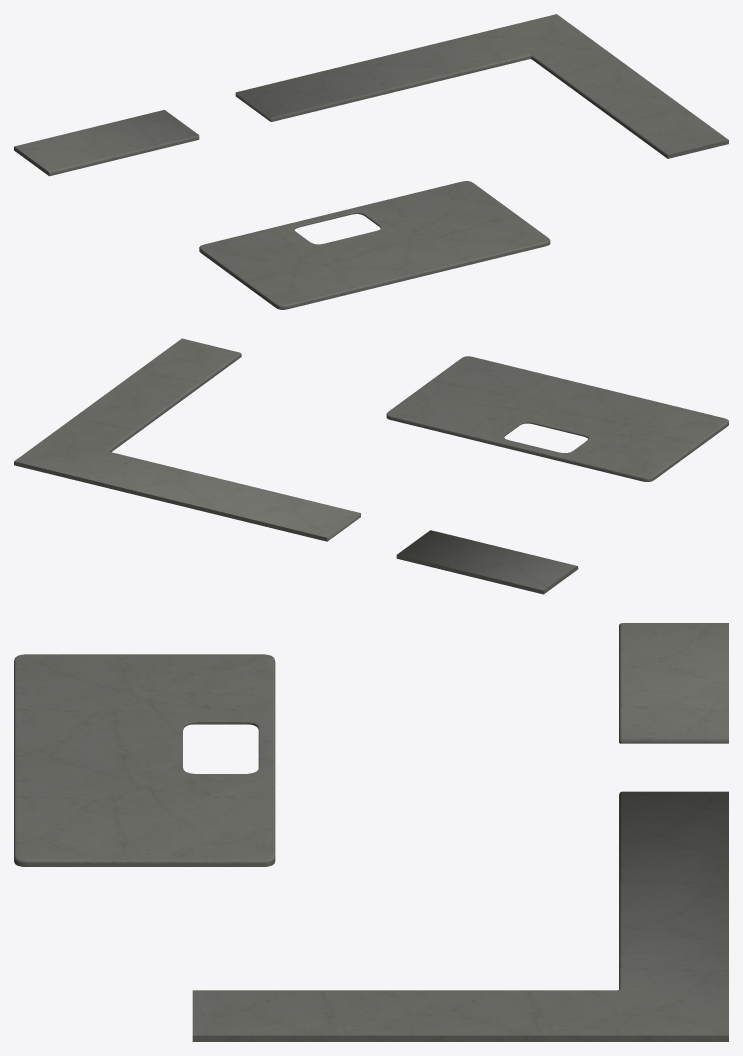
Rendered from 1989_kitchen_Countertops_QuartzExpoGray.gltf.
3 views of the same model, one above another, from view 1: azimuth 30°, elevation 25°; view 2: azimuth 150°, elevation 25°; view 3: azimuth 270°, elevation 25° (orthographic). The views are drawn at different scales.
Visible parts, largest first — view 1: Line22374, Line23355, Line23421, Line22377; view 2: Line22374, Line23355, Line23421, Line22377; view 3: Line22374, Line23355, Line23421, Line22377.
Part boxes in pixels (bbox=[...]): Line22374: bbox=[199, 181, 550, 309]; Line23355: bbox=[235, 14, 728, 158]; Line23421: bbox=[14, 110, 199, 176]; Line22377: bbox=[286, 209, 389, 247]; Line22374: bbox=[386, 356, 728, 481]; Line23355: bbox=[14, 338, 360, 541]; Line23421: bbox=[396, 530, 578, 594]; Line22377: bbox=[496, 418, 596, 455]; Line22374: bbox=[14, 654, 275, 866]; Line23355: bbox=[192, 791, 728, 1041]; Line23421: bbox=[619, 623, 728, 743]; Line22377: bbox=[176, 718, 261, 776].
Size of the model in its own units: 7.1 by 0.07 by 5.2.
Materials: 1 (1 with a texture image).
